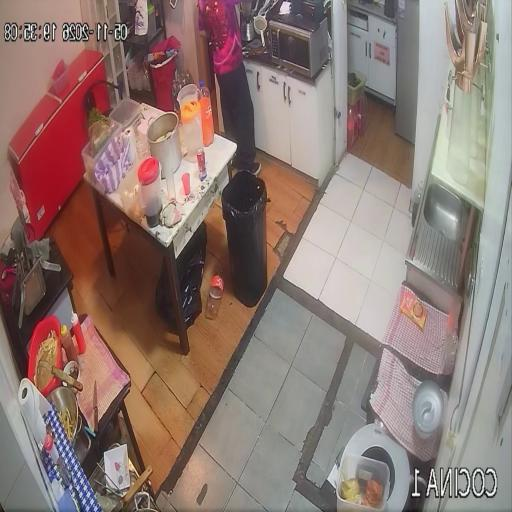Basurero: (222, 171, 267, 307)
Cuchillo1: (93, 381, 98, 432)
Envase Ketchup: (71, 313, 85, 354)
Envase Llajua: (61, 325, 78, 362)
Jarra1: (138, 157, 163, 227)
Jarra2: (180, 100, 204, 161)
Jarra3: (178, 83, 198, 114)
Microondas: (269, 15, 329, 77)
Persona1: (198, 0, 259, 173)
Taper: (336, 453, 390, 512)
Taper2: (110, 99, 141, 130)
Taper3: (82, 119, 123, 175)
Vaso1: (182, 173, 190, 196)
olla1: (147, 112, 182, 177), (412, 381, 444, 439)
